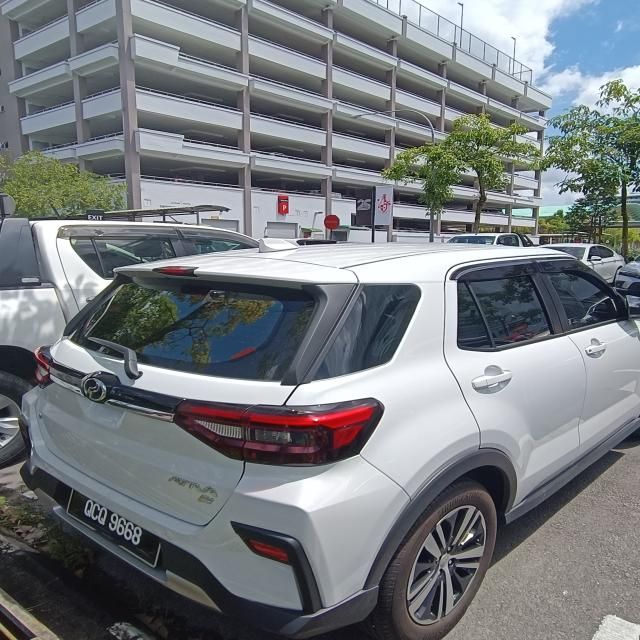PeroduaAtiva: (17, 238, 639, 638)
